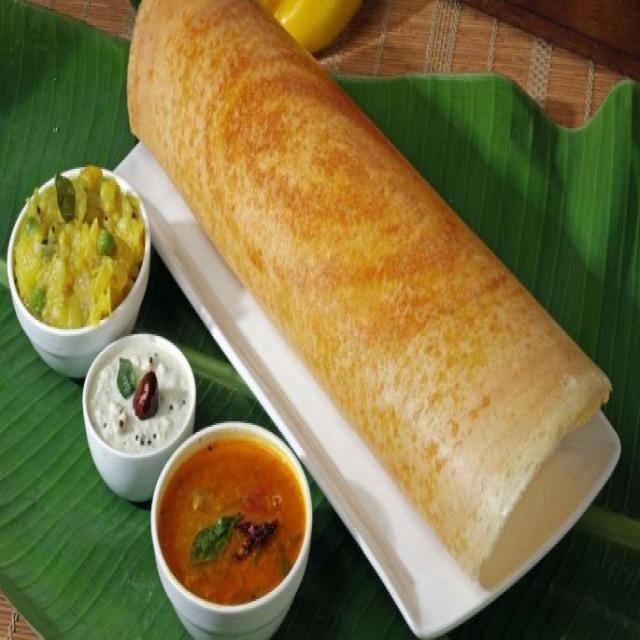chutney: (85, 326, 191, 462)
dosa: (126, 0, 614, 590)
